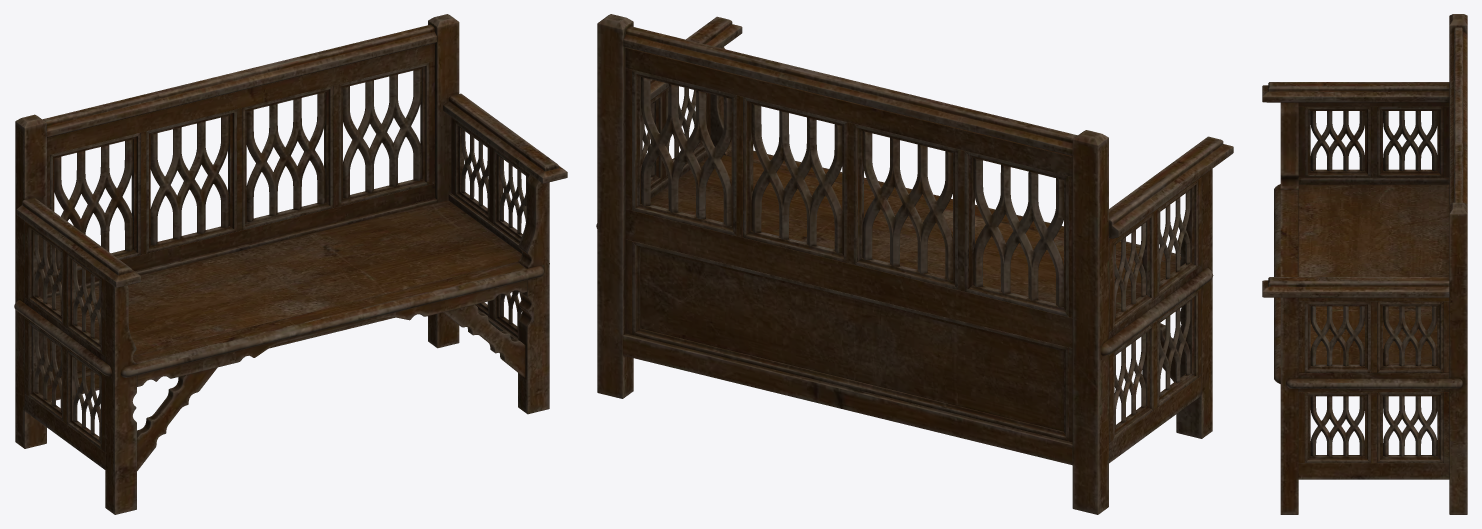
File: furniture_4-transformed.glb
3 renders of one model, left to right at view 1: azimuth 30°, elevation 25°; view 2: azimuth 150°, elevation 25°; view 3: azimuth 270°, elevation 25°, orthographic. The views are drawn at different scales.
Parts seen in each view (by area): view 1: L_Medieval_chair; view 2: L_Medieval_chair; view 3: L_Medieval_chair.
Boxes of the visible parts, x1=… form: L_Medieval_chair: x1=14, y1=14, x2=567, y2=514; L_Medieval_chair: x1=596, y1=14, x2=1233, y2=514; L_Medieval_chair: x1=1262, y1=14, x2=1467, y2=514.
Bounding box in the file's own units: 0.162 × 0.1113 × 0.068.
1 material, 1 textured.
